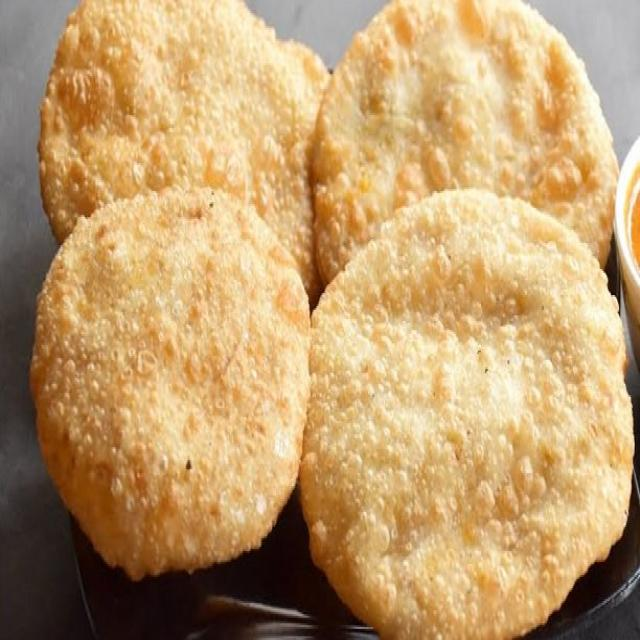puri: (34, 10, 625, 609)
